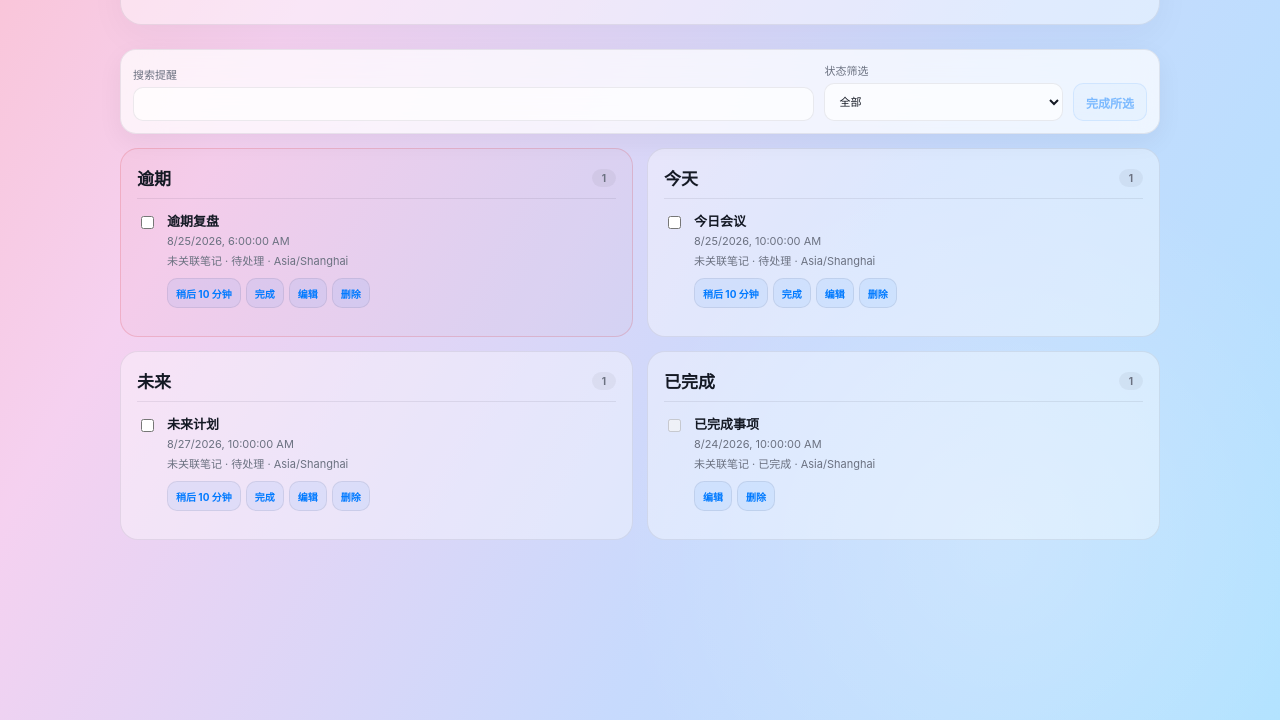
Test: ReminderPanel › keeps a reminder visible when single completion fails
(page scrolled)
Click the button "完成" below "未来计划" at (265, 496), box left=246, top=481, right=284, bottom=511
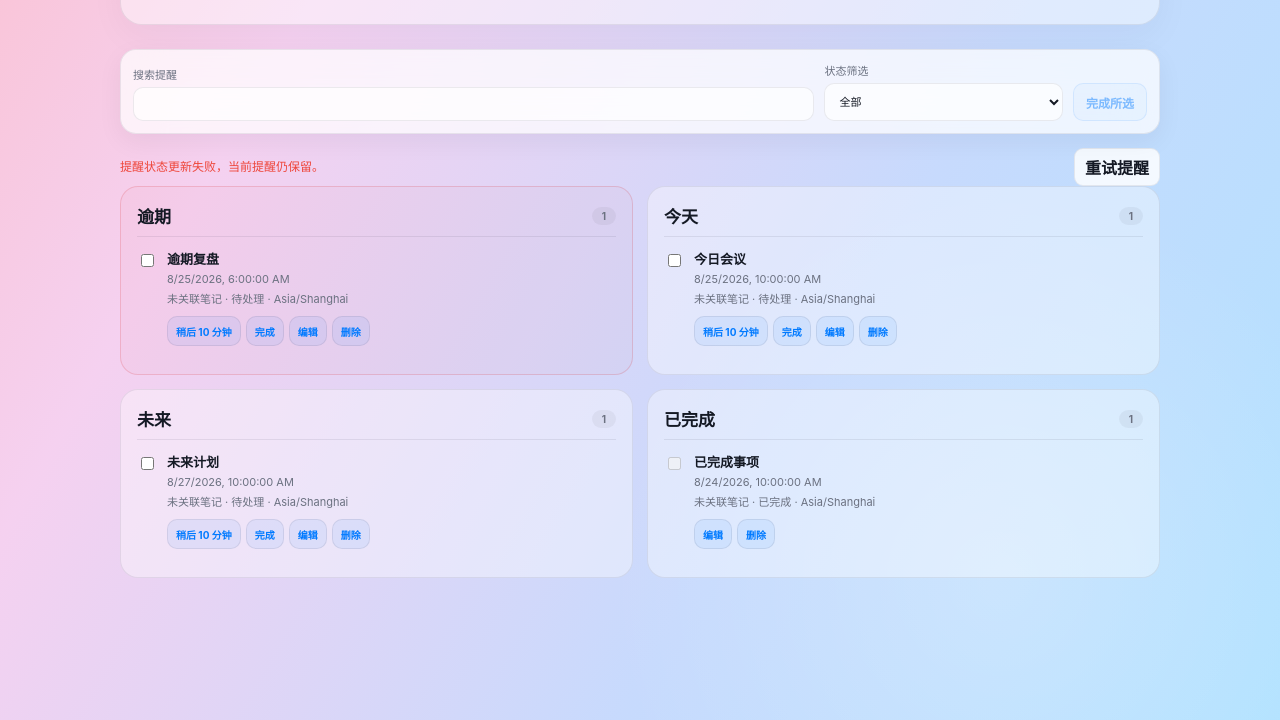
Expected: the list item "未来计划" is shown, left=137, top=439, right=616, bottom=561
Now the message shows "提醒状态更新失败", box left=120, top=159, right=324, bottom=174
